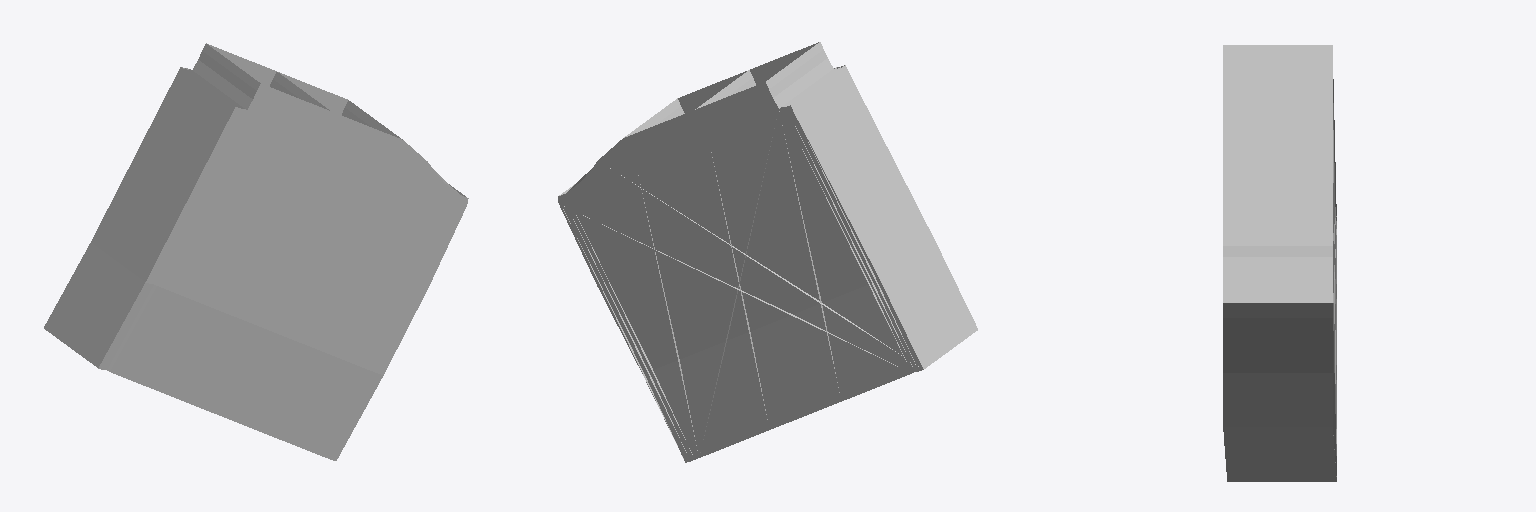
File: 3d_Ungoro Spring01.wlw.obj
The picture shows the model from 3 angles: view 1: azimuth 30°, elevation 25°; view 2: azimuth 150°, elevation 25°; view 3: azimuth 270°, elevation 25°; orthographic projection.
Size of the model in its own units: 38.77 by 40.09 by 10.37.